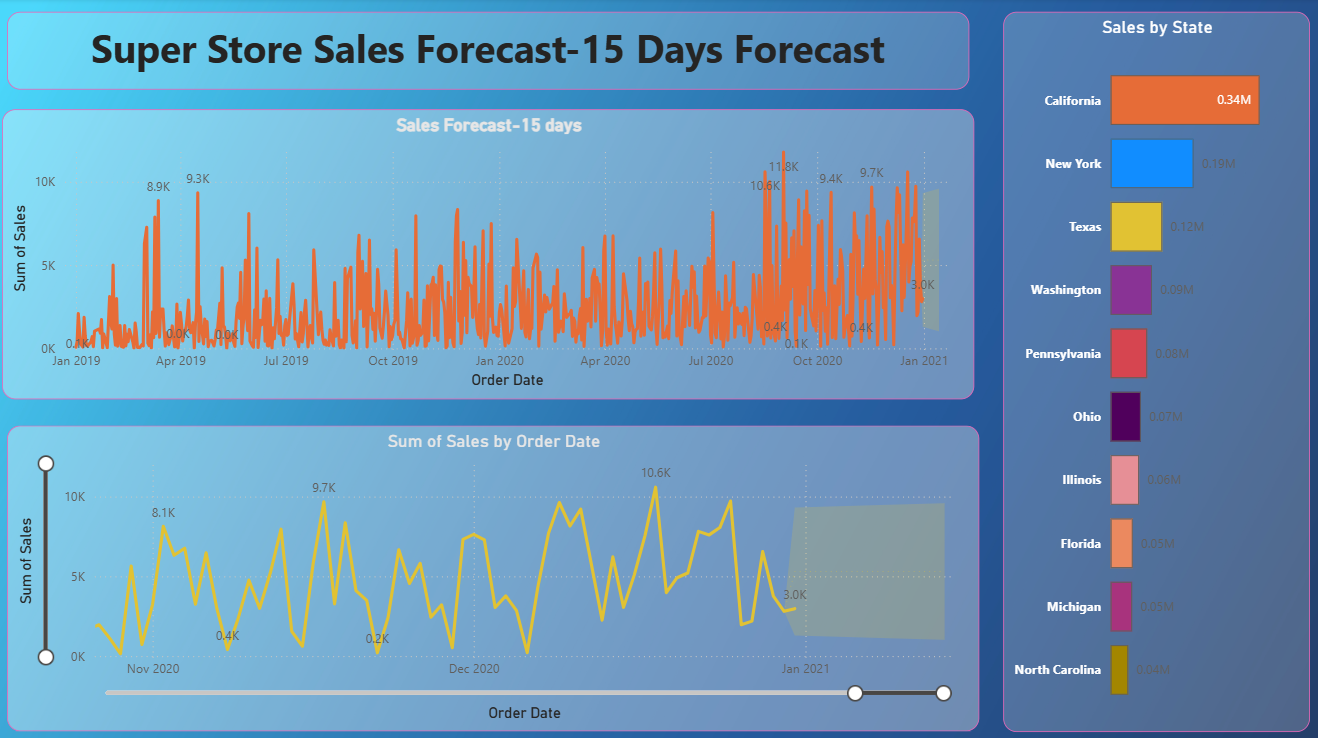

The dashboard page shown, as its layout file describes it:
{"tool":"powerbi","page":{"name":"Page 2","canvas":[1280,720],"ordinal":1},"visuals":[{"type":"lineChart","title":"Sales Forecast-15 days","fields":{"Y":["Sum(SuperStore_Sales_Dataset.Sales)"],"Category":["SuperStore_Sales_Dataset.Order Date"]},"box":[5,107.5,938.8,280],"z":0},{"type":"lineChart","fields":{"Y":["Sum(SuperStore_Sales_Dataset.Sales)"],"Category":["SuperStore_Sales_Dataset.Order Date"]},"box":[10,412.5,938.8,295],"z":1000},{"type":"clusteredBarChart","title":"Sales by State","fields":{"Y":["Sum(SuperStore_Sales_Dataset.Sales)"],"Category":["SuperStore_Sales_Dataset.State"]},"box":[971.2,13.8,296.2,695],"z":2000},{"type":"textbox","box":[10,13.8,928.8,75],"z":3000}]}

Visuals, with their boxes in screenshot pixels (x1, y1, x2, y2), scaled from the page's 1280x720 canvas onto the 1318x738 screenshot:
"Sales Forecast-15 days" lineChart: {"x1": 5, "y1": 110, "x2": 972, "y2": 397}
lineChart - Sum(SuperStore_Sales_Dataset.Sales) x SuperStore_Sales_Dataset.Order Date: {"x1": 10, "y1": 423, "x2": 977, "y2": 725}
"Sales by State" clusteredBarChart: {"x1": 1000, "y1": 14, "x2": 1305, "y2": 727}
textbox: {"x1": 10, "y1": 14, "x2": 967, "y2": 91}
